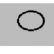no answer: (15, 8, 50, 37)
